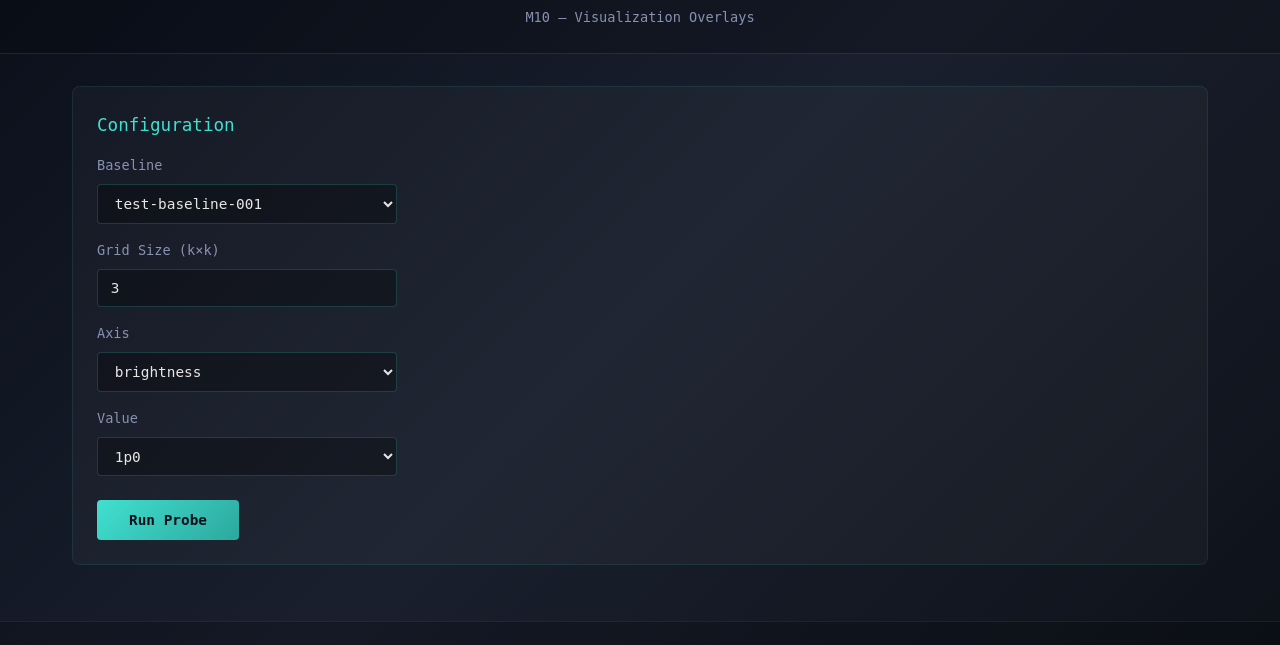
Scenario: CounterfactualConsole › executes probe and displays results
// Click run button
Step 1. Click the button "Run Probe" → (168,520), box [97,500,239,540]
(page scrolled)
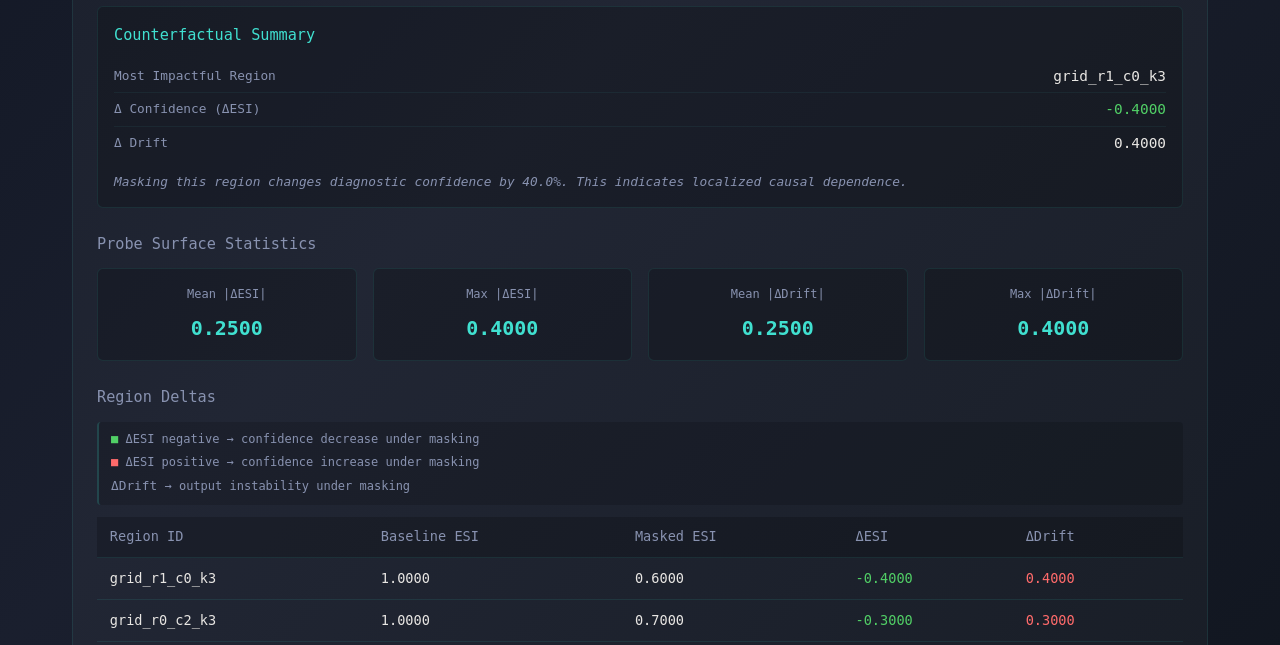
Check: the text "Mean |ΔESI|" is shown, box [187,285,266,304]
Check: the text "Max |ΔESI|" is shown, box [466,285,538,304]
